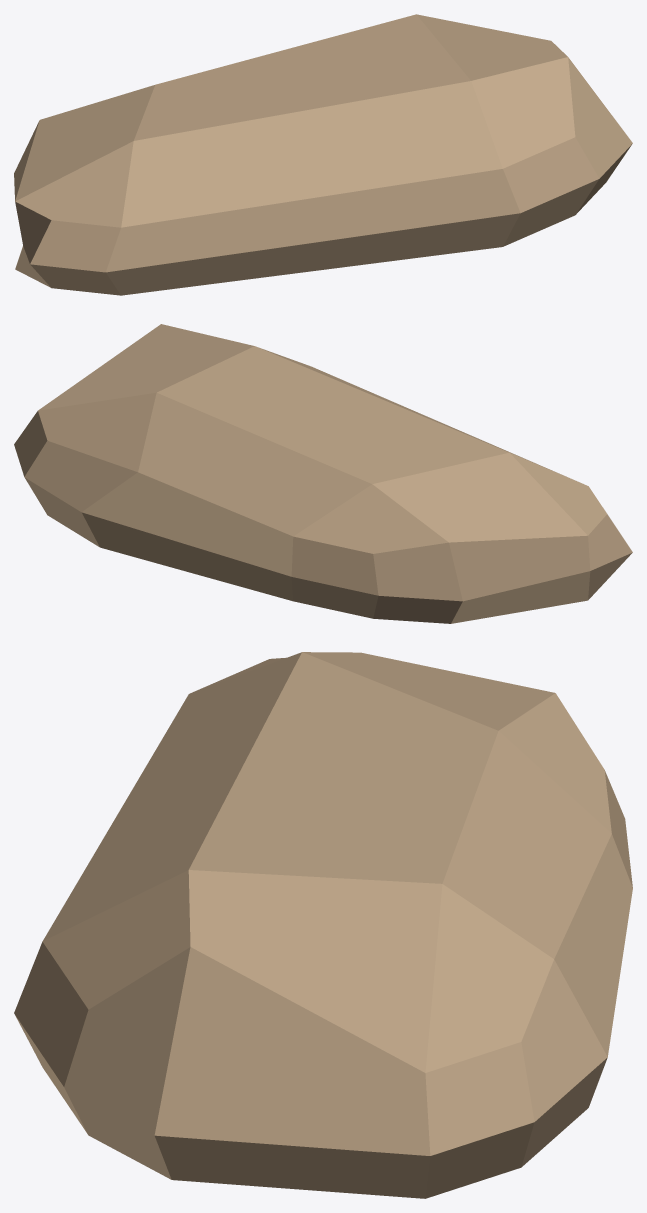
The model's file is rock_13.FBX.
3 renders of one model, top to bottom at view 1: azimuth 30°, elevation 25°; view 2: azimuth 150°, elevation 25°; view 3: azimuth 270°, elevation 25°, orthographic. The views are drawn at different scales.
Visible parts, largest first — view 1: rock_12; view 2: rock_12; view 3: rock_12.
Part boxes in pixels (x1,y1,x2,y2): rock_12: [14, 14, 632, 295]; rock_12: [14, 324, 632, 623]; rock_12: [14, 652, 632, 1198].
Size of the model in its own units: 1781 by 378 by 996.
